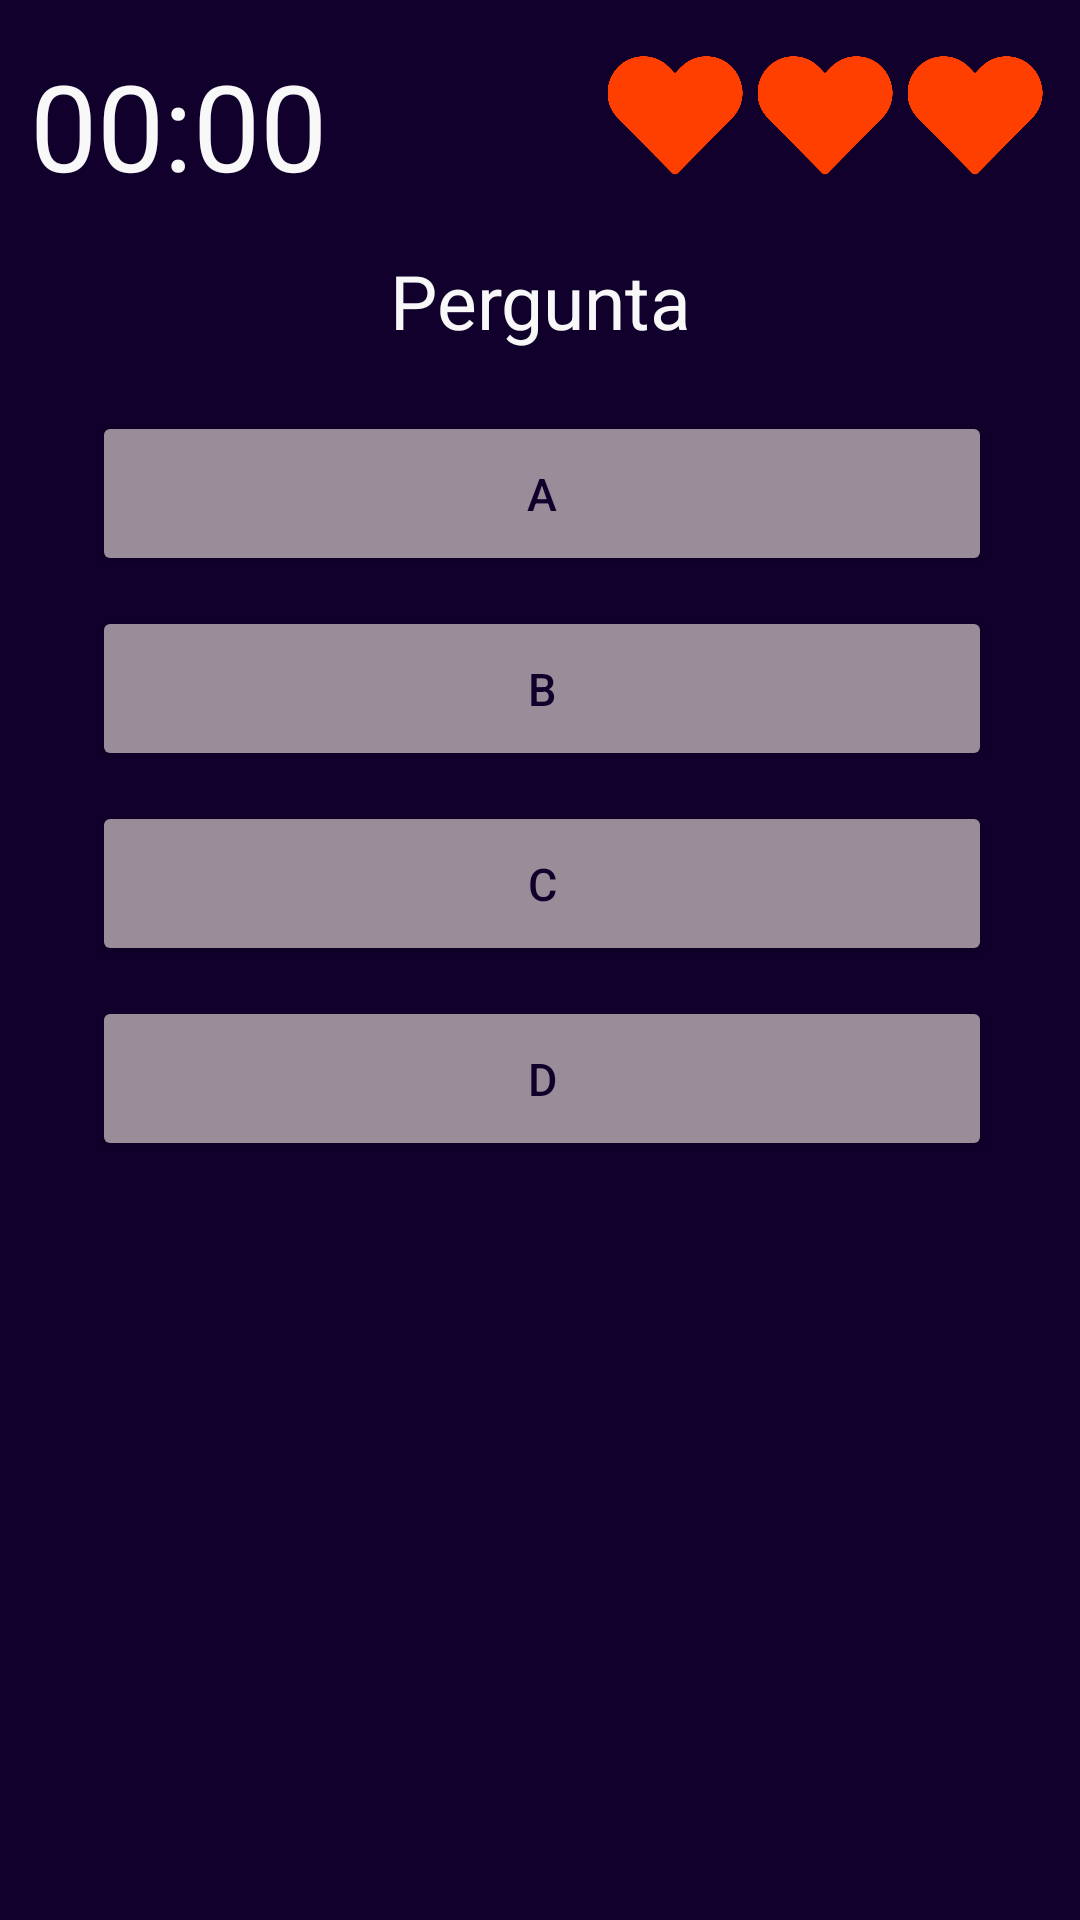

Icon click points for this 1080px×1920px phone screenshot, format [x,y]:
heart: [675,115], [825,115], [975,115]
